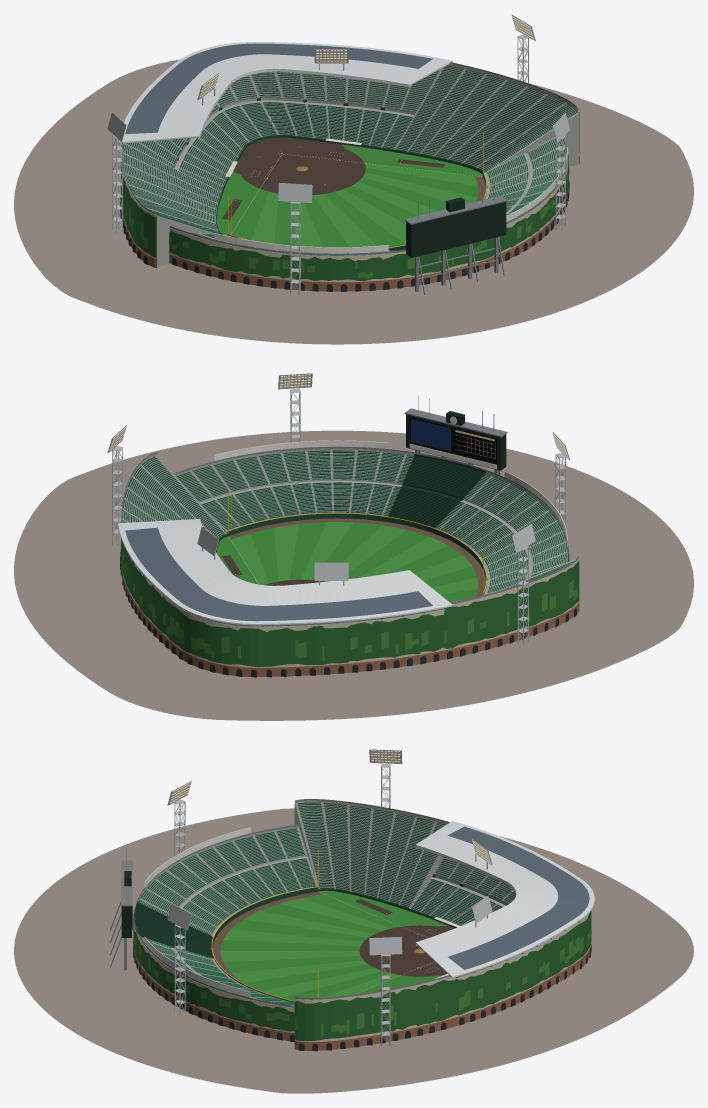
File: koshien.obj
3 views of the same model, one above another, from view 1: azimuth 30°, elevation 25°; view 2: azimuth 150°, elevation 25°; view 3: azimuth 270°, elevation 25° (orthographic). The views are drawn at different scales.
Parts seen in each view (by area): view 1: ground_apron, stand_first, infield_seat_fronts, turf_base, stand_third, ivy_wall, stand_backstop, roof_ginsan, scoreboard, turf_stripes, infield_brown, roof_ginsan_panels (+9 smaller); view 2: ground_apron, ivy_wall, stand_outfield_right, outfield_seat_fronts, roof_ginsan, stand_outfield_left, roof_ginsan_panels, turf_base, turf_stripes, scoreboard, light_towers, backscreen (+10 smaller); view 3: ground_apron, stand_third, ivy_wall, stand_outfield_left, infield_seat_fronts, turf_base, roof_ginsan, turf_stripes, outfield_seat_fronts, roof_ginsan_panels, light_towers, facade_base (+13 smaller).
Part boxes in pixels (bbox=[...]): ground_apron: bbox=[14, 59, 693, 344]; stand_first: bbox=[309, 64, 578, 172]; infield_seat_fronts: bbox=[123, 65, 576, 217]; turf_base: bbox=[216, 144, 482, 247]; stand_third: bbox=[121, 138, 238, 267]; ivy_wall: bbox=[121, 112, 579, 280]; stand_backstop: bbox=[183, 71, 361, 155]; roof_ginsan: bbox=[118, 42, 452, 143]; scoreboard: bbox=[214, 147, 567, 294]; turf_stripes: bbox=[251, 163, 477, 247]; infield_brown: bbox=[233, 137, 365, 195]; roof_ginsan_panels: bbox=[125, 43, 432, 133]; ground_apron: bbox=[14, 430, 693, 720]; ivy_wall: bbox=[121, 502, 579, 667]; stand_outfield_right: bbox=[175, 448, 414, 533]; outfield_seat_fronts: bbox=[177, 451, 566, 577]; roof_ginsan: bbox=[118, 519, 452, 625]; stand_outfield_left: bbox=[435, 471, 568, 594]; roof_ginsan_panels: bbox=[125, 527, 432, 621]; turf_base: bbox=[216, 522, 477, 602]; turf_stripes: bbox=[231, 522, 478, 594]; scoreboard: bbox=[214, 395, 567, 546]; light_towers: bbox=[107, 373, 569, 645]; backscreen: bbox=[388, 454, 485, 527]; ground_apron: bbox=[14, 808, 693, 1093]; stand_third: bbox=[295, 800, 496, 925]; ivy_wall: bbox=[133, 803, 591, 1040]; stand_outfield_left: bbox=[138, 826, 317, 936]; infield_seat_fronts: bbox=[298, 803, 516, 925]; turf_base: bbox=[220, 890, 449, 1000]; roof_ginsan: bbox=[415, 821, 594, 977]; turf_stripes: bbox=[220, 898, 400, 997]; outfield_seat_fronts: bbox=[139, 828, 315, 934]; roof_ginsan_panels: bbox=[447, 826, 589, 969]; light_towers: bbox=[167, 749, 492, 1047]; facade_base: bbox=[133, 944, 590, 1050].
Bounding box in the file's own units: 323 × 56.75 × 326.
